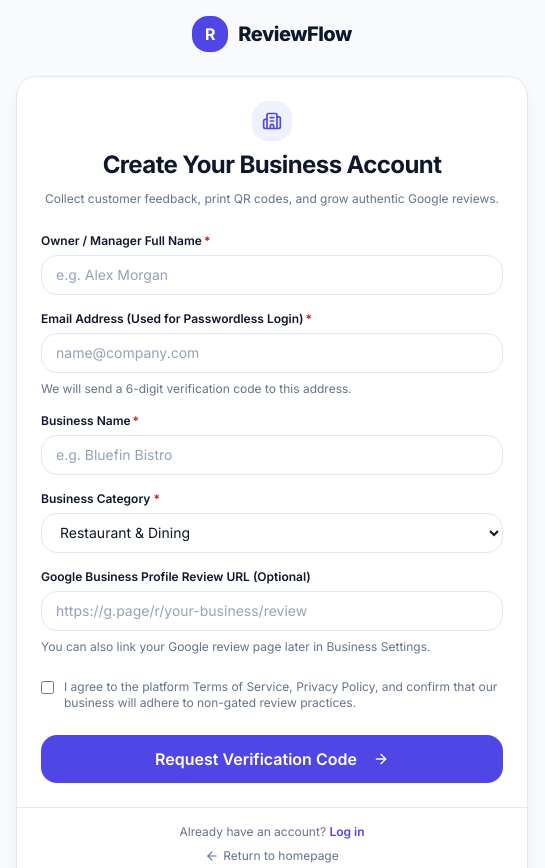
Test: SignupPage Flow › should display validation errors when submitting with empty or invalid fields
What coordinates should you click on to do the following:
click the button "Request Verification Code"
I would click on:
 (272, 758)
Its box is x1=41 y1=734 x2=503 y2=782.
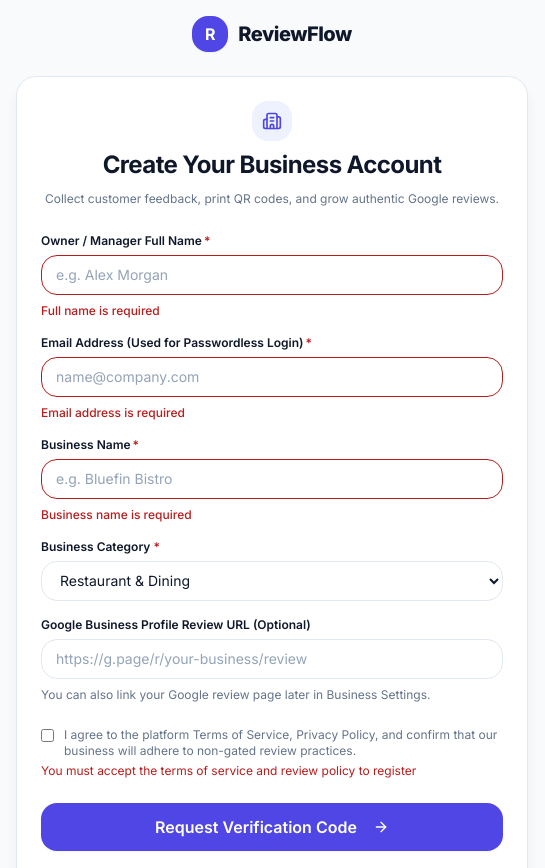
Result: the text "Full name is required" is shown at x1=41 y1=302 x2=160 y2=318
Result: the text "Email address is required" is shown at x1=41 y1=404 x2=185 y2=420
Result: the text "Business name is required" is shown at x1=41 y1=506 x2=192 y2=522
